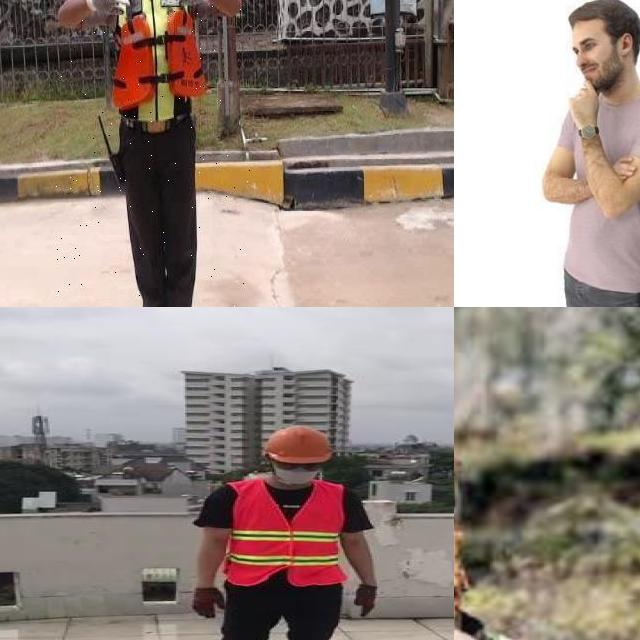No_Ear-Protection: (616, 29, 636, 62)
No_Glasses: (575, 32, 605, 58)
face_mask: (270, 456, 324, 488)
face_nomask: (562, 56, 615, 84)
glasses: (269, 456, 331, 474)
hand_glove: (190, 588, 226, 618), (354, 585, 379, 618)
hand_noglove: (565, 80, 609, 150)
head_helmet: (260, 420, 334, 466)
person: (53, 0, 251, 307), (179, 417, 389, 640), (539, 0, 640, 307)
vest: (224, 479, 345, 586), (114, 0, 206, 128)
